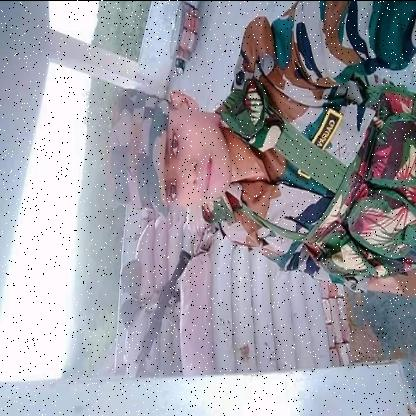rifle: (131, 247, 194, 378)
